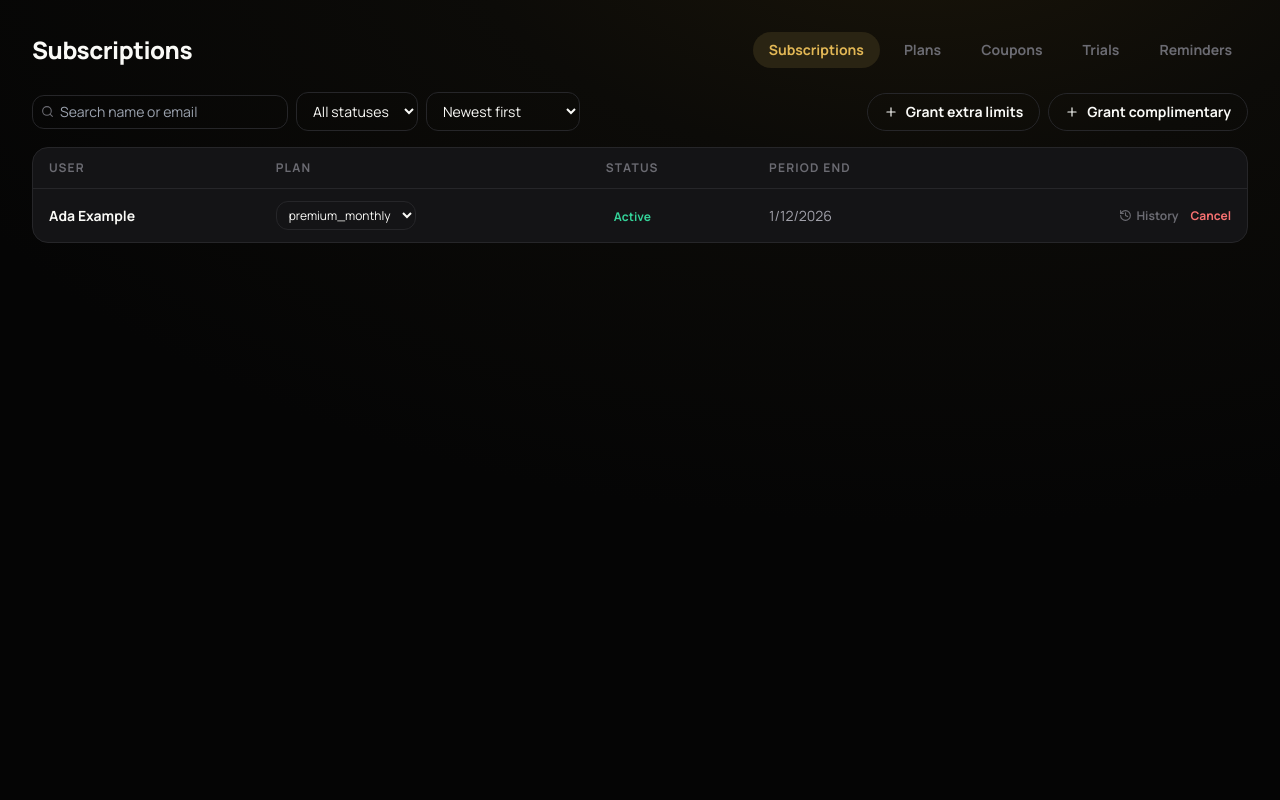
Test: Subscriptions (admin) › grants extra usage limits by email, step-up gated
This screenshot has width=1280, height=800.
Expected: the table with test id "admin-subscriptions-table" is shown, [33,148,1247,242]
Step 1. Click the button with test id "admin-usagegrant-toggle-btn" → (954, 112), box [867,92,1040,130]
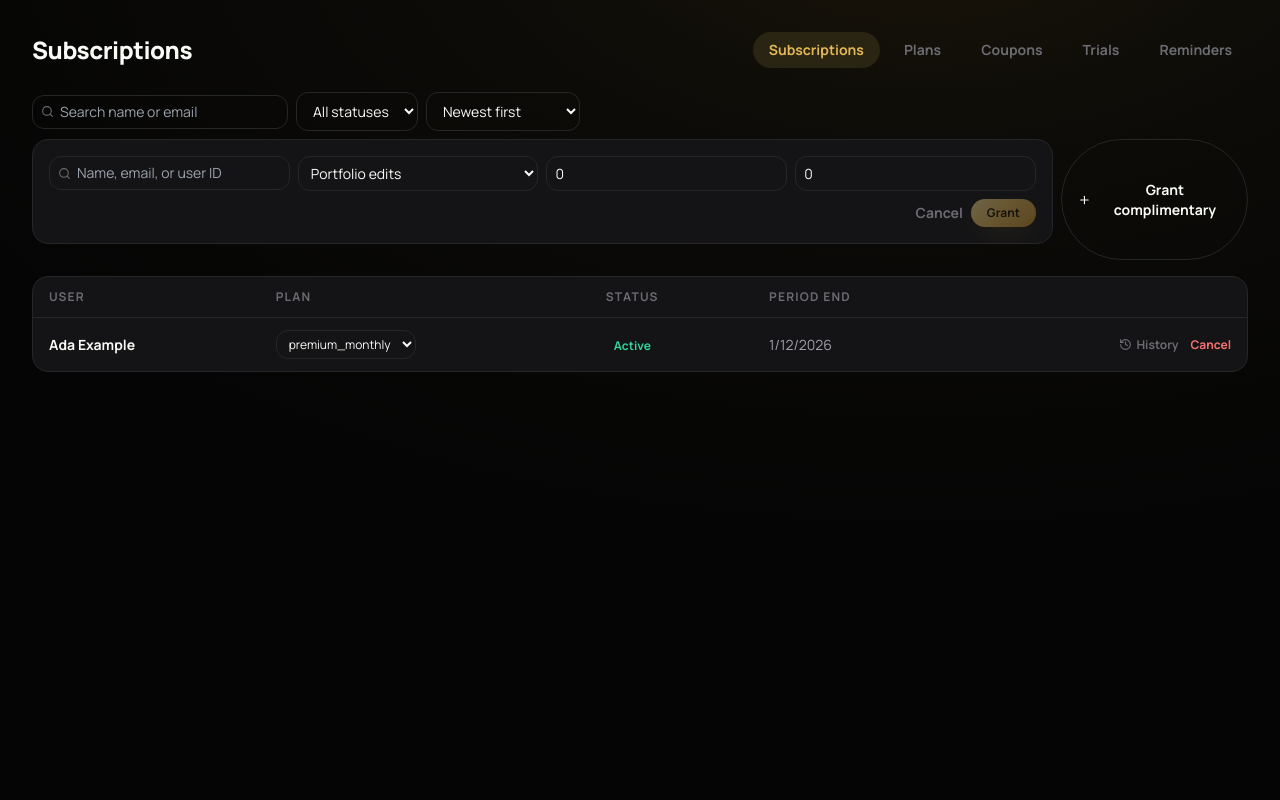
Step 2. Type "target@example.com" into the field with test id "admin-usagegrant-user-input" → (179, 173), box [77,163,281,183]
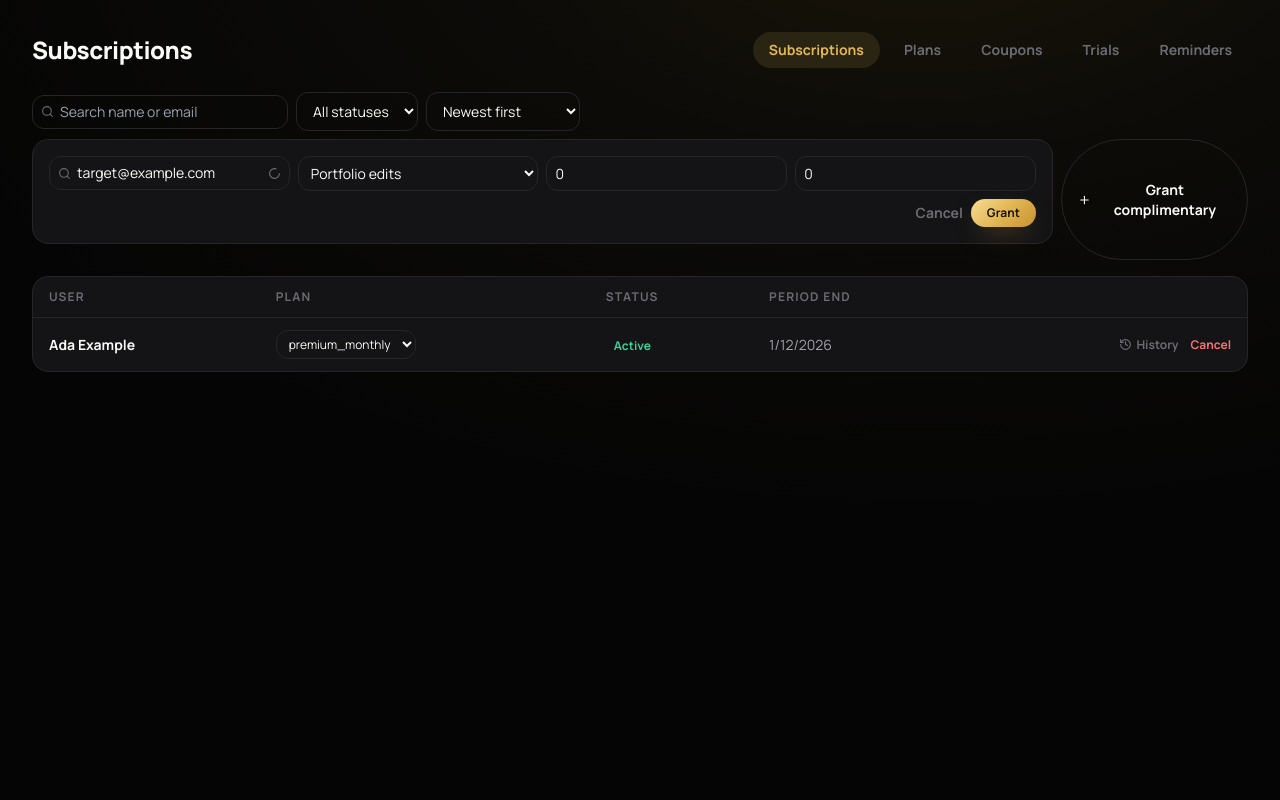
Step 3. Select "Doc Upload" in the dropdown with test id "admin-usagegrant-key-select" → (418, 174), box [298,156,538,191]
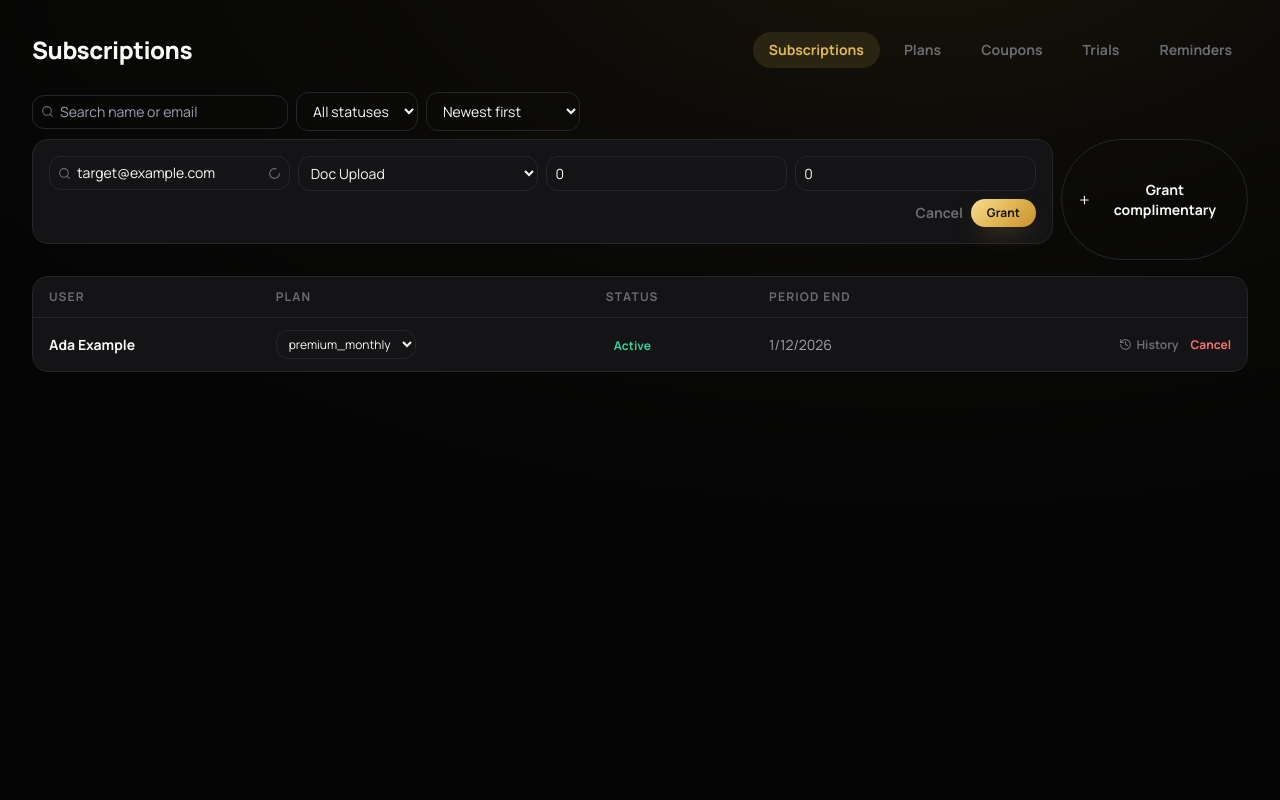
Step 4. Replace the text in the number field with test id "admin-usagegrant-weekly-input" with "5" → (667, 174), box [546,156,787,191]
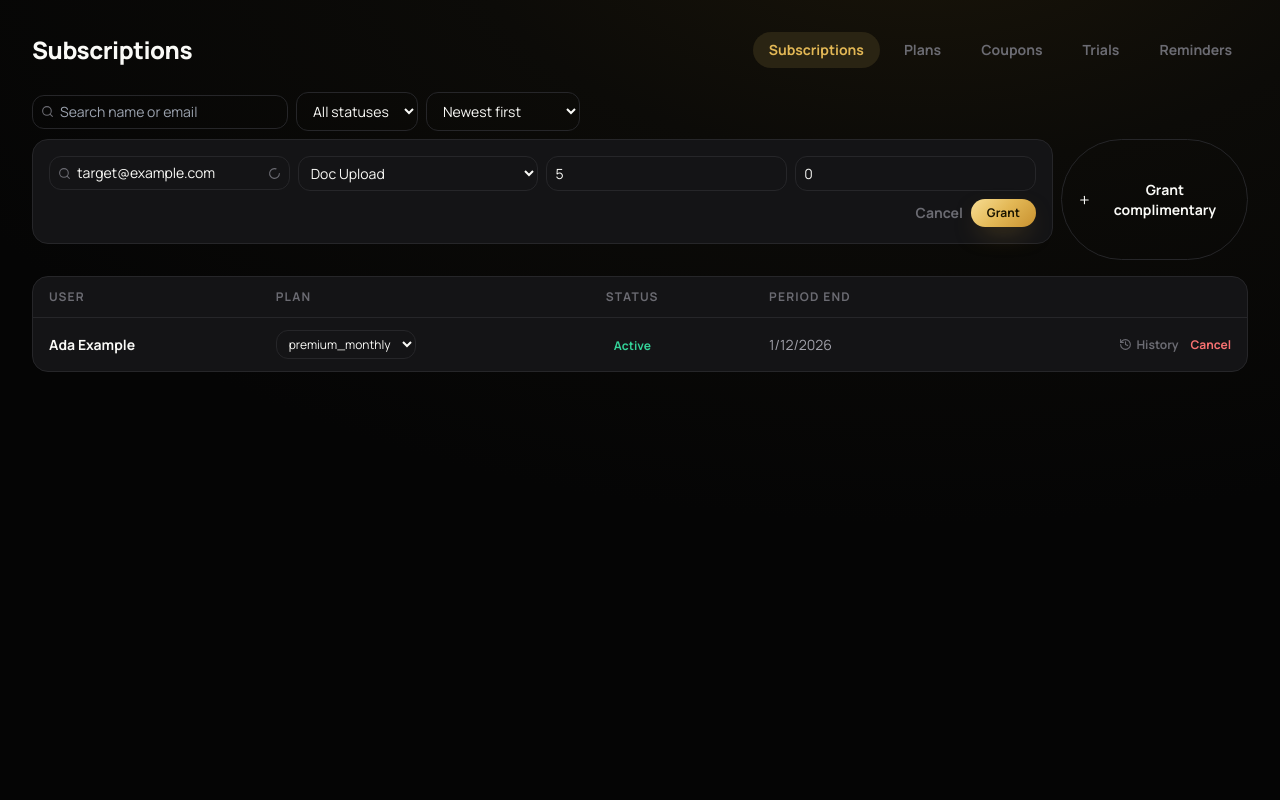
Step 5. Replace the text in the number field with test id "admin-usagegrant-monthly-input" with "10" → (916, 174), box [795,156,1036,191]
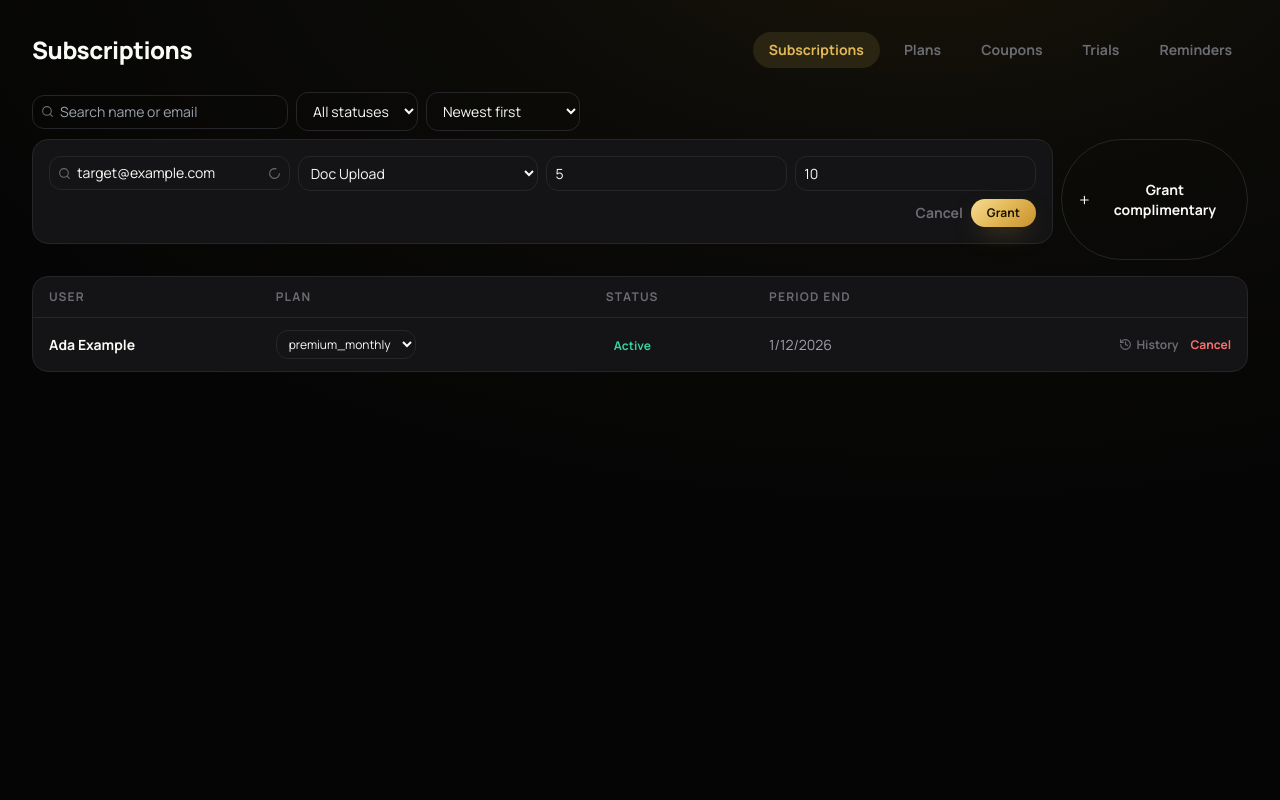
Step 6. Click the button with test id "admin-usagegrant-submit-btn" → (1003, 213), box [971,199,1036,227]
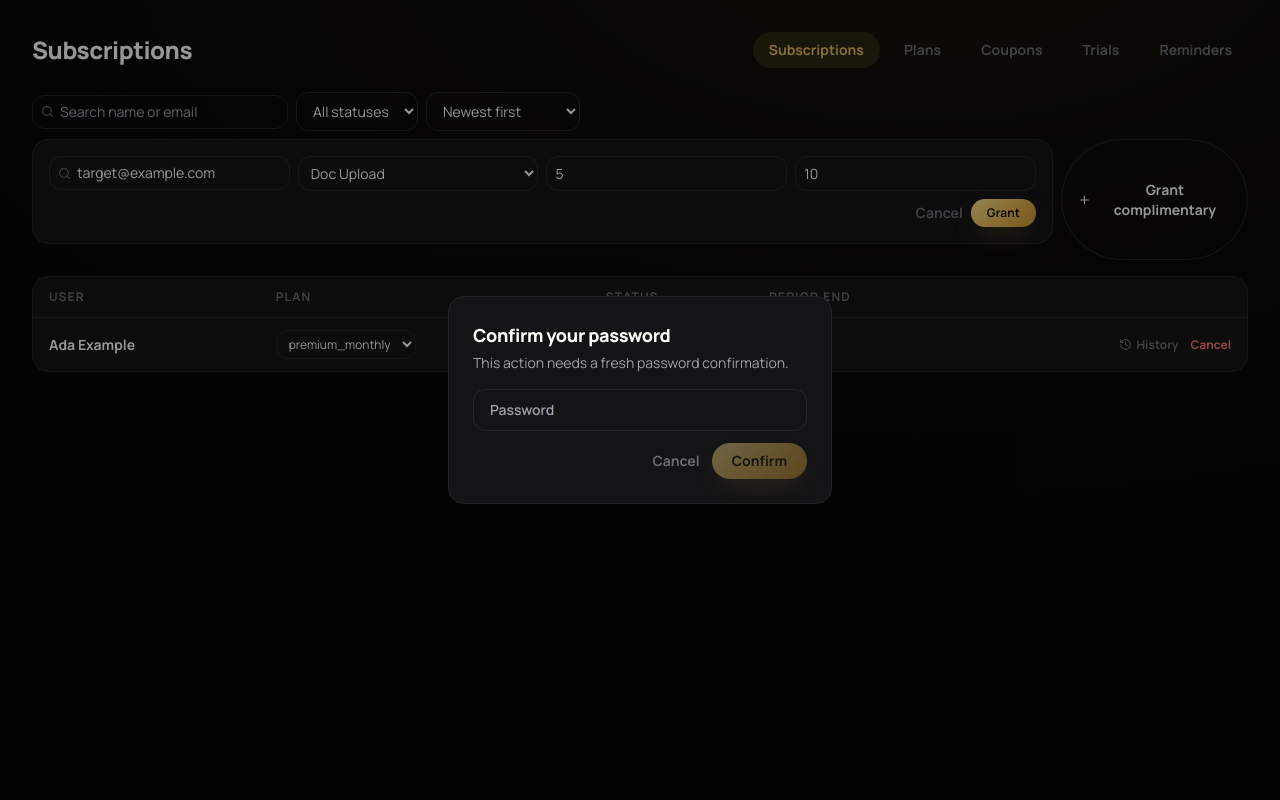
Now the element with test id "admin-stepup-modal" is shown
